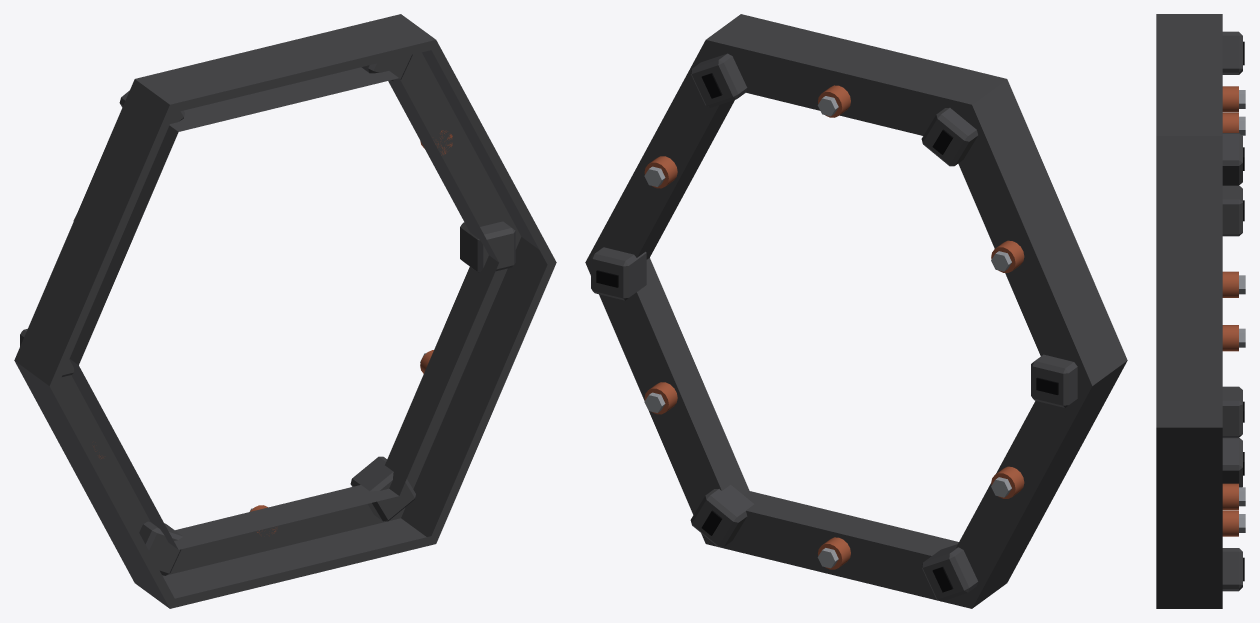
File: pod4_pyro.obj
The picture shows the model from 3 angles, left to right: view 1: azimuth 30°, elevation 25°; view 2: azimuth 150°, elevation 25°; view 3: azimuth 270°, elevation 25°; orthographic projection. The views are drawn at different scales.
Visible parts, largest first — view 1: pod4_pyro; view 2: pod4_pyro; view 3: pod4_pyro.
Boxes of the visible parts, box(x1,y1,x2,y2) form: pod4_pyro: box(14, 14, 556, 608); pod4_pyro: box(585, 14, 1127, 608); pod4_pyro: box(1156, 14, 1245, 608).
Bounding box in the file's own units: 1.66 × 1.58 × 0.27.
